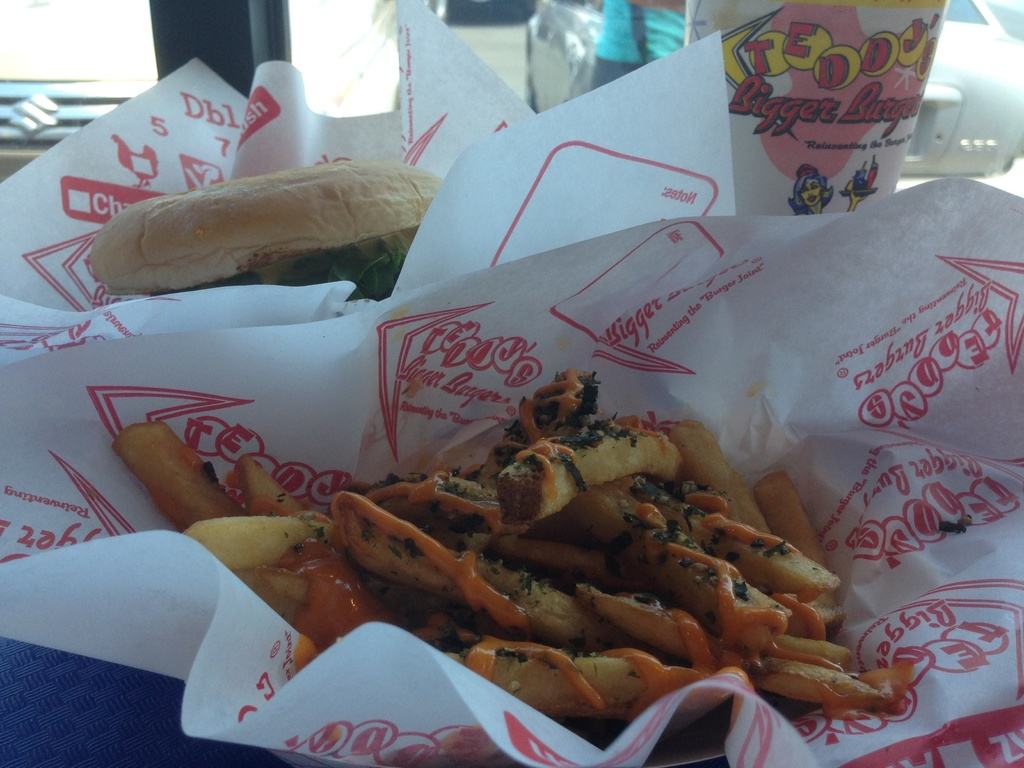French fries: (330, 499, 624, 647), (589, 579, 889, 702), (353, 465, 625, 577), (611, 471, 831, 605), (499, 423, 680, 526), (448, 643, 700, 715), (750, 474, 846, 631), (110, 420, 244, 526), (666, 414, 769, 536), (177, 514, 330, 580), (233, 453, 322, 540), (233, 564, 306, 636), (769, 585, 847, 631), (768, 631, 852, 664), (256, 561, 314, 596)
